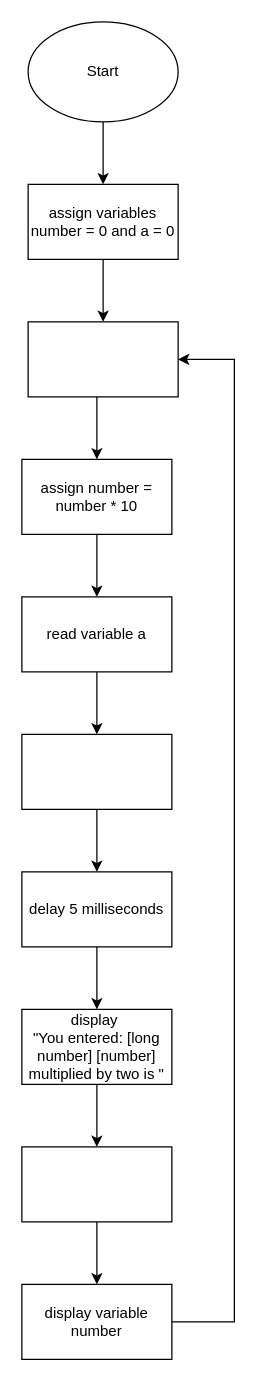
This 266x1381 diagram has some shape labels left out. Here are the shapes that lost their labels. From the top down, the centre of each, then its label:
At point (102, 359): "flush out serial buffer".
At point (96, 771): "assign number = number + a".
At point (96, 1184): "assign number = number * 2".
